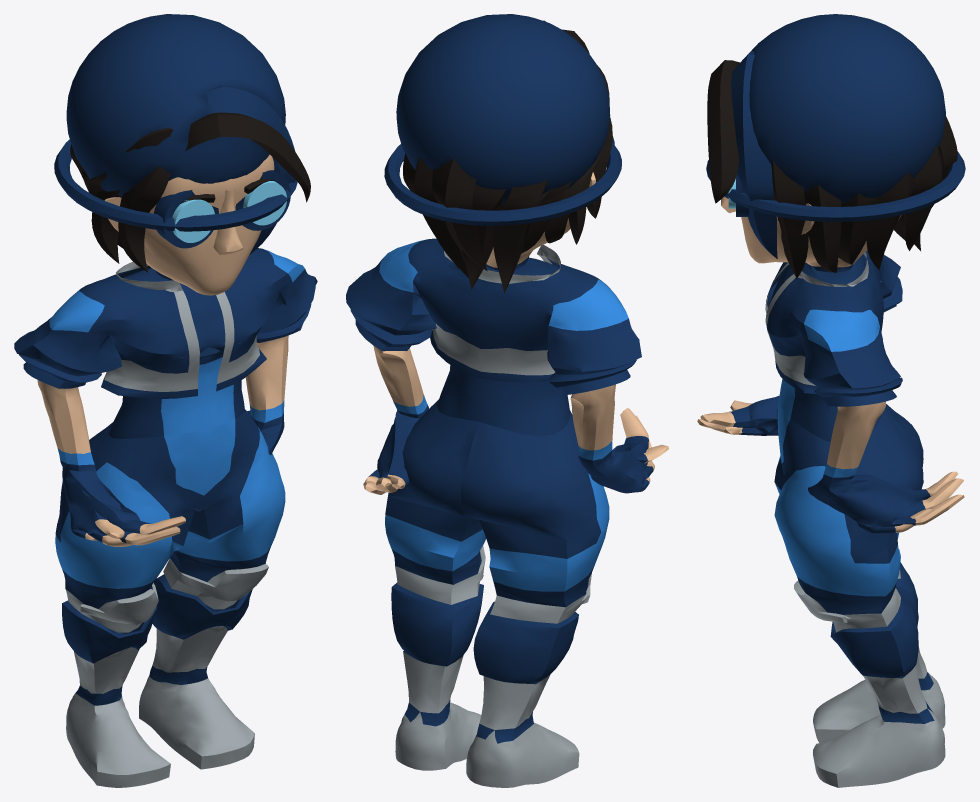
Rendered from av-nadadora-olimpica.glb.
The picture shows the model from 3 angles, left to right: view 1: azimuth 30°, elevation 25°; view 2: azimuth 150°, elevation 25°; view 3: azimuth 270°, elevation 25°; orthographic projection. The views are drawn at different scales.
Visible parts, largest first — view 1: Ad_oculos_natacao_1_0; view 2: Ad_oculos_natacao_1_0; view 3: Ad_oculos_natacao_1_0.
Boxes of the visible parts, x1,y1,x2,y2 form: Ad_oculos_natacao_1_0: [14, 14, 317, 787]; Ad_oculos_natacao_1_0: [346, 14, 668, 787]; Ad_oculos_natacao_1_0: [697, 14, 965, 787].
Size of the model in its own units: 0.5853 by 1.38 by 0.4627.
Materials: 1 (1 with a texture image).
